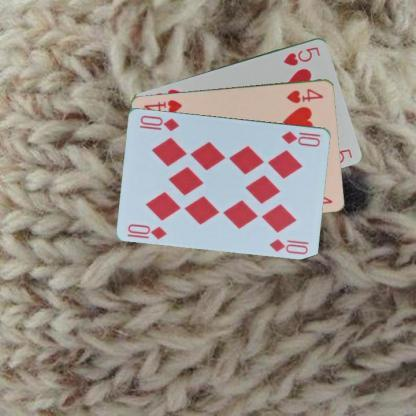10d: (279, 128, 321, 148), (126, 220, 168, 240)
4h: (284, 86, 324, 104)
5h: (280, 44, 322, 67)
